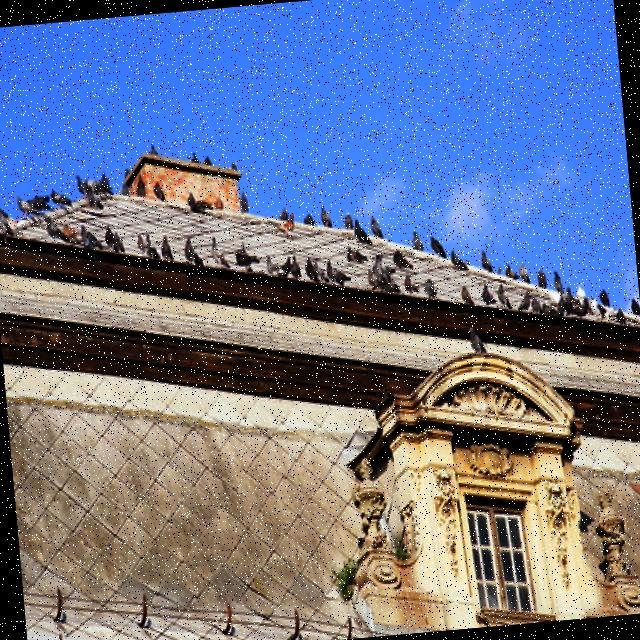bird: (364, 252, 394, 292), (75, 172, 103, 210), (16, 192, 50, 218), (326, 256, 352, 286), (208, 235, 230, 270), (318, 255, 342, 287), (233, 240, 260, 268), (187, 189, 214, 216), (136, 230, 160, 260), (182, 235, 203, 268), (104, 223, 125, 254), (309, 254, 330, 285), (468, 324, 488, 354), (352, 218, 372, 246), (392, 247, 414, 272), (304, 255, 322, 283), (345, 244, 368, 265), (429, 234, 447, 260), (82, 228, 102, 251), (158, 234, 174, 262), (496, 282, 512, 310), (50, 188, 72, 208), (450, 248, 468, 272), (480, 281, 497, 306), (368, 214, 384, 240), (402, 274, 419, 296), (515, 290, 532, 312), (288, 254, 302, 280), (460, 284, 474, 307), (237, 190, 250, 214), (422, 277, 436, 299), (552, 269, 564, 294), (411, 229, 424, 252), (480, 249, 492, 273), (517, 262, 530, 284), (319, 206, 332, 228), (152, 180, 165, 202), (574, 282, 588, 302), (503, 262, 518, 280), (598, 286, 610, 308), (342, 210, 354, 232), (536, 268, 548, 289), (629, 296, 640, 317), (302, 211, 315, 227)
